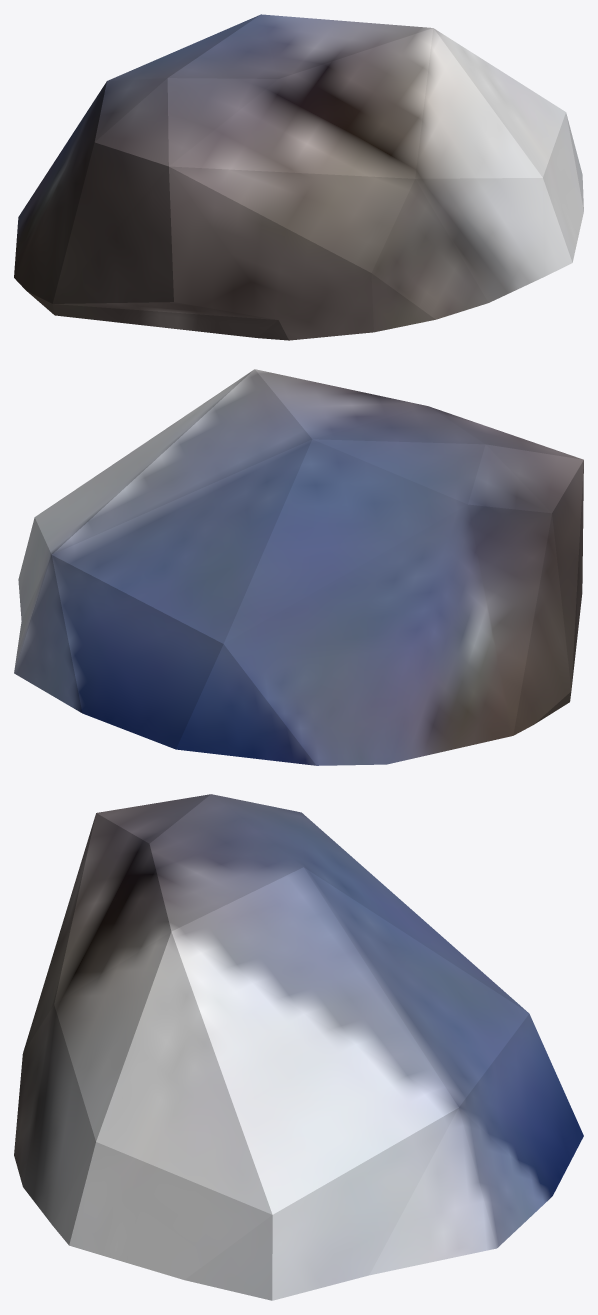
The picture shows the model from 3 angles, top to bottom: view 1: azimuth 30°, elevation 25°; view 2: azimuth 150°, elevation 25°; view 3: azimuth 270°, elevation 25°; orthographic projection. The views are drawn at different scales.
Size of the model in its own units: 0.6167 by 0.2455 by 0.4868.
Materials: 1 (1 with a texture image).
